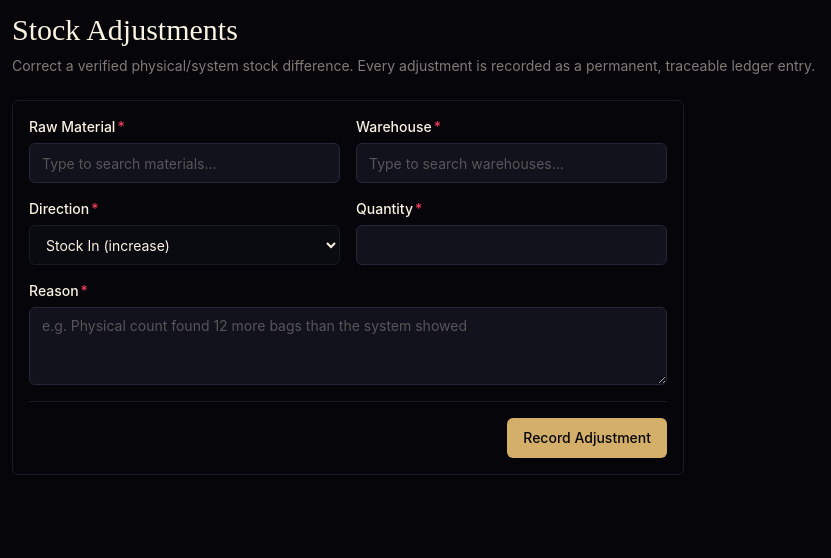
Test case: InventoryAdjustmentsPage › rejects submission with no material, warehouse, quantity or reason selected
This screenshot has width=831, height=558.
expect the dropdown labelled "Raw Material" is shown: met, box [29,143,340,183]
Step 1. Click the button "Record Adjustment" → (587, 438), box [507,418,667,458]
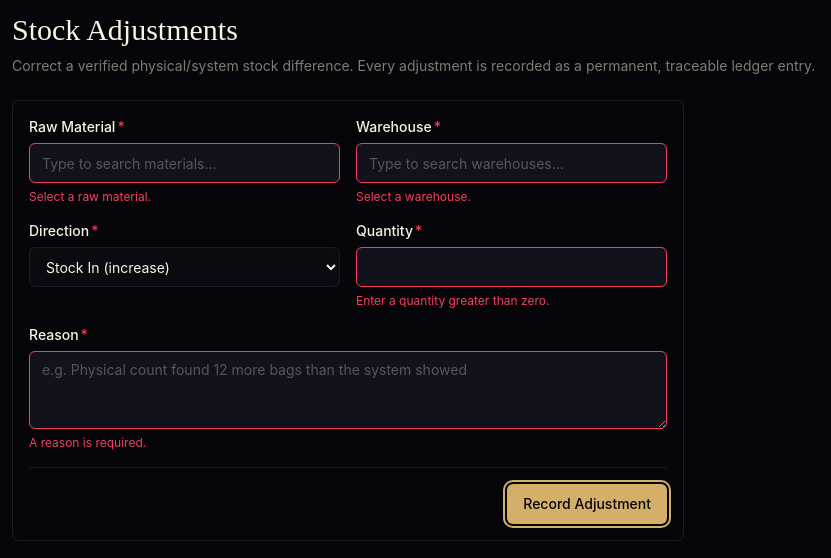
expect the text "Select a raw material." is shown: met, box [29,189,151,204]
expect the text "Select a warehouse." is shown: met, box [356,189,471,204]
expect the text "Enter a quantity greater than zero." is shown: met, box [356,293,549,308]
